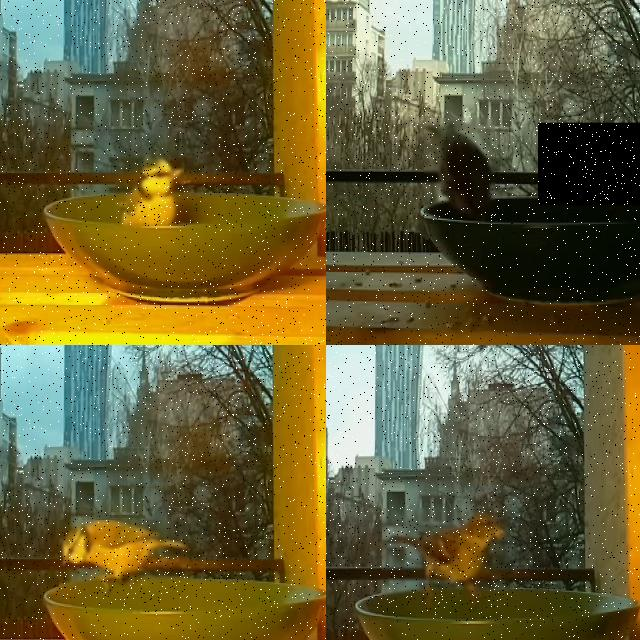Modraszka: (59, 520, 188, 600), (115, 148, 184, 226)
Wrobel: (382, 508, 510, 615), (538, 122, 640, 205), (424, 119, 495, 218)
